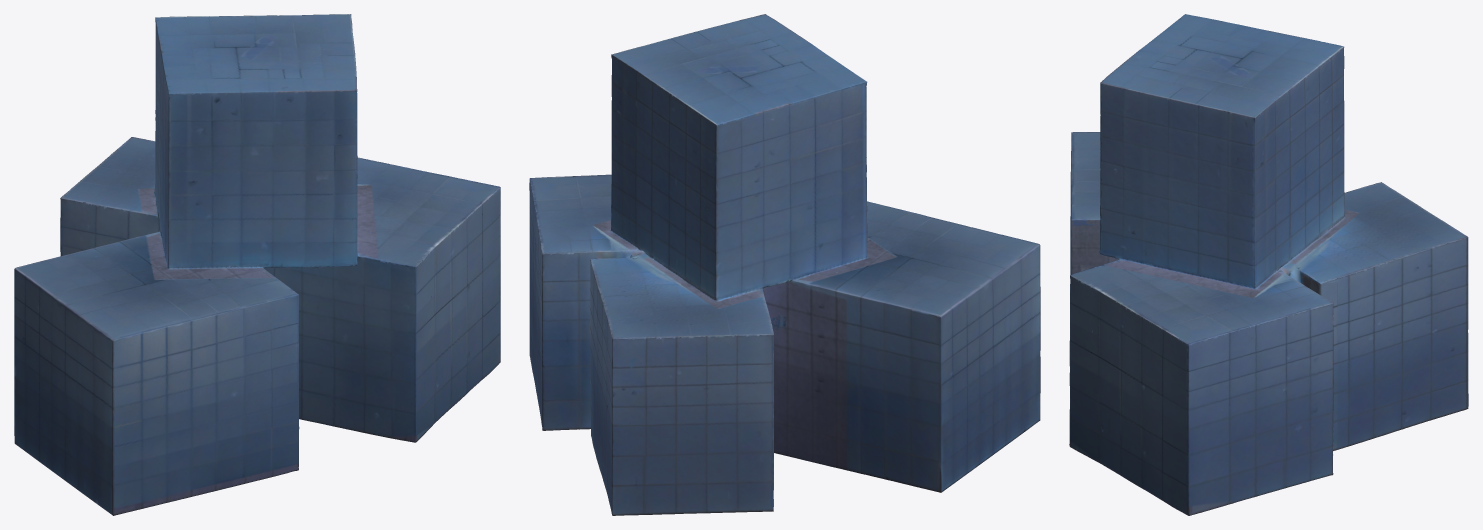
The model's file is build.glb.
3 renders of one model, left to right at view 1: azimuth 30°, elevation 25°; view 2: azimuth 150°, elevation 25°; view 3: azimuth 270°, elevation 25°, orthographic. The views are drawn at different scales.
Size of the model in its own units: 2 by 1.51 by 1.58.
1 material, 1 textured.
